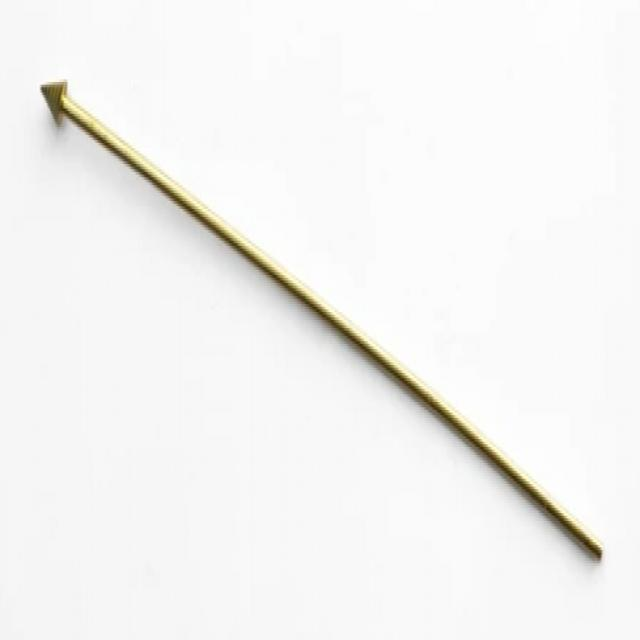spear: (27, 57, 615, 583)
